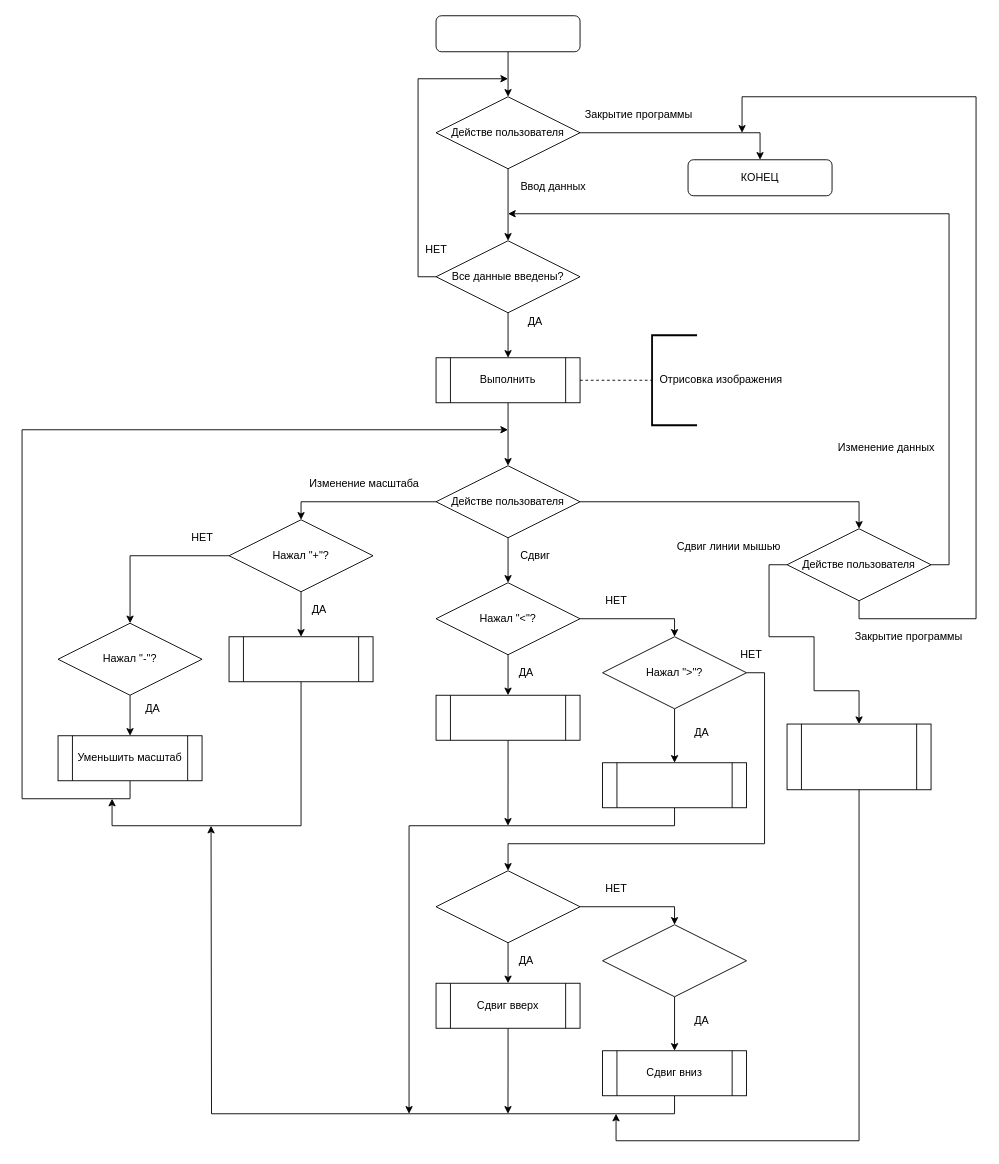
The diagram is 999 pixels wide and 1164 high, and some of its shapes have lost their labels. The centre of each missing label's shape, as x and y in pixels:
Cдвиг влево: the point at 507,717
Cдвиг вправо: the point at 674,785
Нажал "^"?: the point at 507,906
Нажал "v"?: the point at 674,960
НАЧАЛО: the point at 507,33
Отрисовка параллели к исходной линии уровня в конечной точке сдвига мыши: the point at 858,756
Увеличить масштаб: the point at 300,659
